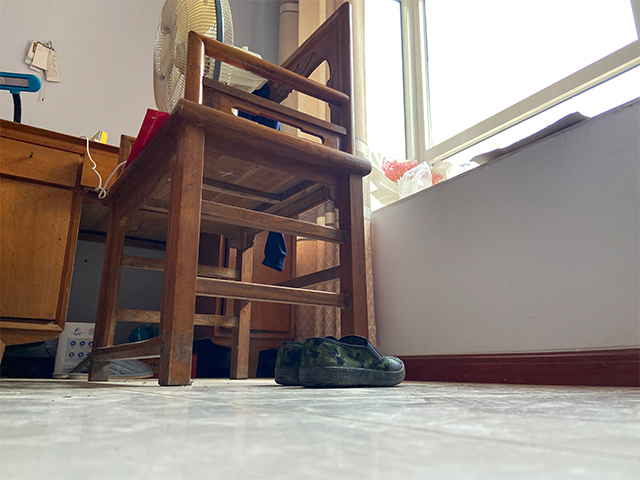curtain: (275, 1, 378, 348)
slippers: (52, 349, 155, 380)
stool: (86, 1, 376, 387)
table: (1, 116, 294, 379)
